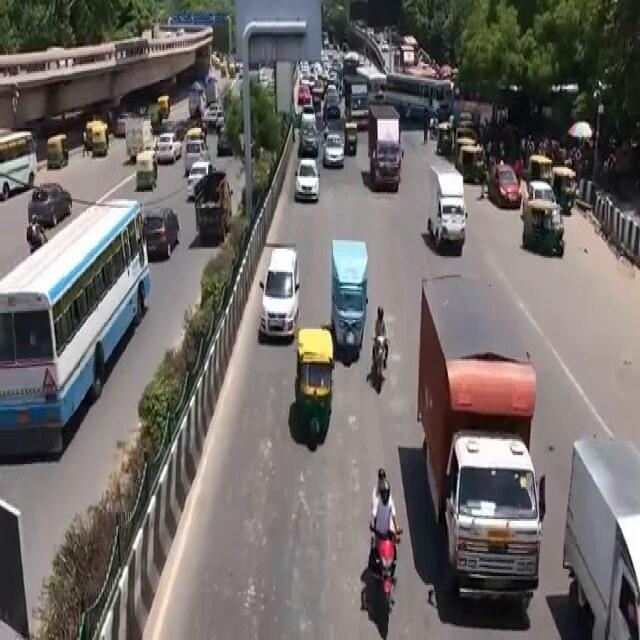three_wheeler: (288, 316, 339, 458)
